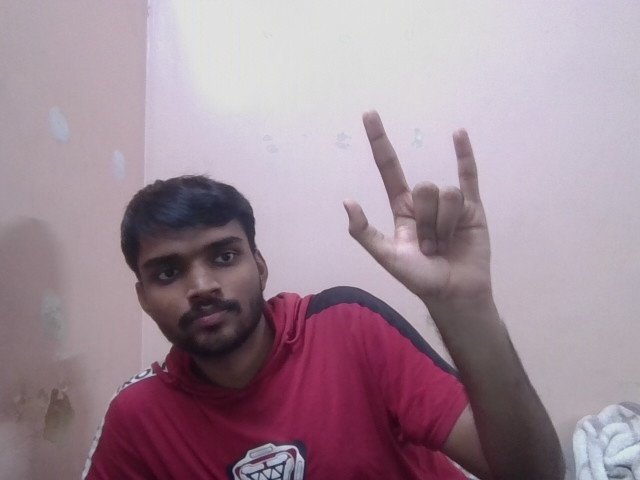I Love You: (340, 99, 499, 290)
